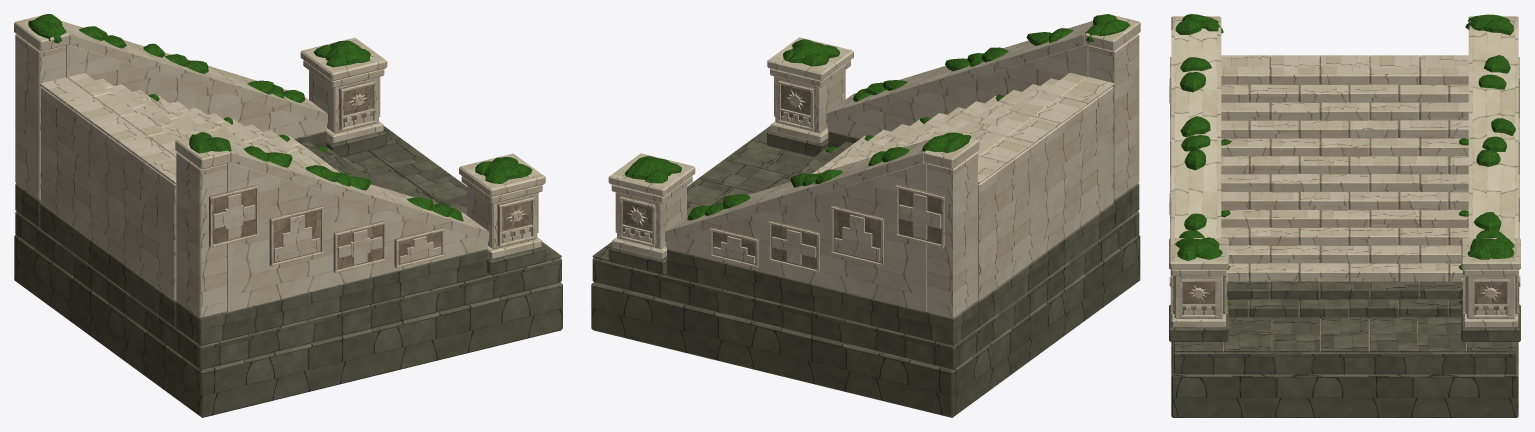
3 views of the same model, side by side, from view 1: azimuth 30°, elevation 25°; view 2: azimuth 150°, elevation 25°; view 3: azimuth 270°, elevation 25° (orthographic). The views are drawn at different scales.
Visible parts, largest first — view 1: Mesh_Stairs_CheeksAndPedestals, Mesh_Stairs_DampBase, Mesh_Stairs_Treads, Mesh_Stairs_Moss, Mesh_Stairs_Relief; view 2: Mesh_Stairs_CheeksAndPedestals, Mesh_Stairs_DampBase, Mesh_Stairs_Treads, Mesh_Stairs_Moss, Mesh_Stairs_Relief; view 3: Mesh_Stairs_Treads, Mesh_Stairs_DampBase, Mesh_Stairs_CheeksAndPedestals, Mesh_Stairs_Moss, Mesh_Stairs_Relief.
Part boxes in pixels (bbox=[...]): Mesh_Stairs_CheeksAndPedestals: bbox=[14, 15, 545, 317]; Mesh_Stairs_DampBase: bbox=[14, 126, 562, 417]; Mesh_Stairs_Treads: bbox=[40, 73, 339, 184]; Mesh_Stairs_Moss: bbox=[28, 14, 532, 221]; Mesh_Stairs_Relief: bbox=[94, 80, 533, 272]; Mesh_Stairs_CheeksAndPedestals: bbox=[608, 15, 1140, 317]; Mesh_Stairs_DampBase: bbox=[591, 126, 1140, 417]; Mesh_Stairs_Treads: bbox=[812, 73, 1114, 183]; Mesh_Stairs_Moss: bbox=[624, 14, 1130, 220]; Mesh_Stairs_Relief: bbox=[620, 80, 1060, 272]; Mesh_Stairs_Treads: bbox=[1221, 55, 1468, 282]; Mesh_Stairs_DampBase: bbox=[1169, 281, 1520, 417]; Mesh_Stairs_CheeksAndPedestals: bbox=[1169, 16, 1520, 327]; Mesh_Stairs_Moss: bbox=[1175, 14, 1515, 305]; Mesh_Stairs_Relief: bbox=[1173, 56, 1516, 351].
Size of the model in its own units: 6.8 by 4.79 by 6.2.
Materials: 4 (4 with a texture image).
